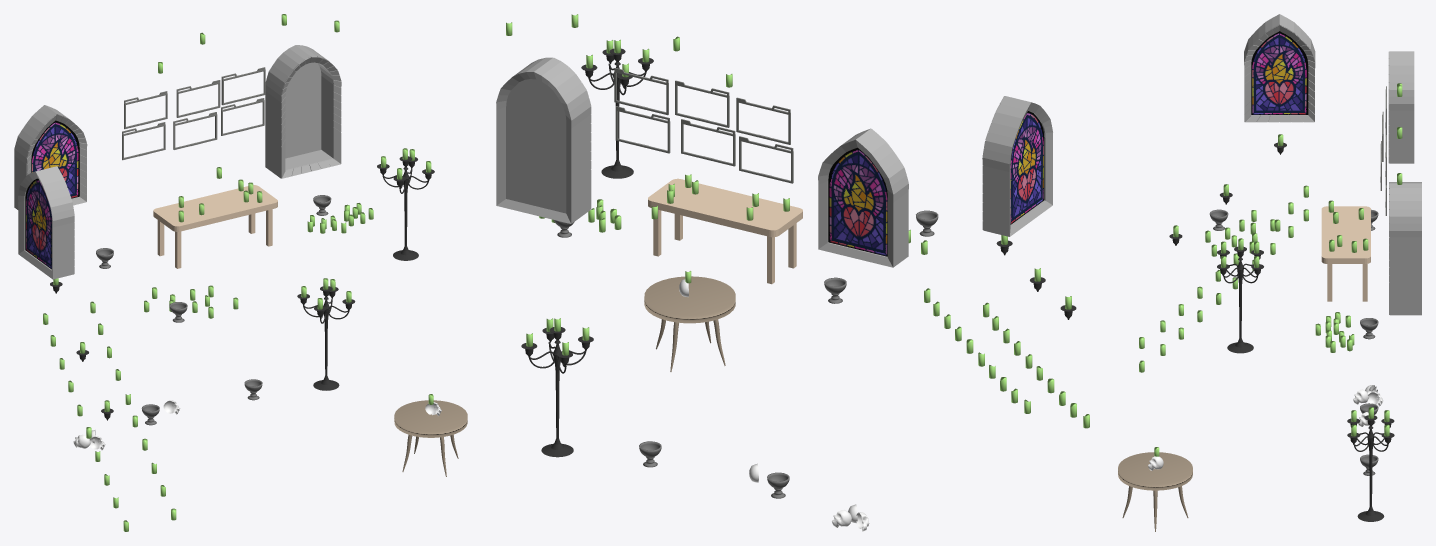
File: things2.glb
3 renders of one model, left to right at view 1: azimuth 30°, elevation 25°; view 2: azimuth 150°, elevation 25°; view 3: azimuth 270°, elevation 25°, orthographic. The views are drawn at different scales.
Parts seen in each view (by area): view 1: WindowRock.003, WindowRock.001, DesktopBase, WindowRock.002, WindowCrystal01.002, TableBase, WindowCrystal01.003, CandelabraBase.001, CandelabraBase; view 2: WindowRock.003, WindowRock.001, WindowCrystal01.004, WindowRock.002, DesktopBase, TableBase, WindowCrystal01.003, CandelabraBase; view 3: WindowRock.003, WindowCrystal01.001, WindowRock.002, WindowRock.001, DesktopBase, TableBase, CandelabraBase, CandelabraBase.001.
Boxes of the visible parts, <box> form: WindowRock.003: <box>265,45,341,178</box>; WindowRock.001: <box>18,166,74,279</box>; DesktopBase: <box>153,185,277,231</box>; WindowRock.002: <box>14,105,87,209</box>; WindowCrystal01.002: <box>31,120,79,198</box>; TableBase: <box>394,400,467,437</box>; WindowCrystal01.003: <box>25,178,51,269</box>; CandelabraBase.001: <box>393,167,418,260</box>; CandelabraBase: <box>313,297,339,390</box>; WindowRock.003: <box>496,57,591,223</box>; WindowRock.001: <box>982,96,1052,236</box>; WindowCrystal01.004: <box>828,147,887,256</box>; WindowRock.002: <box>818,128,908,267</box>; DesktopBase: <box>648,178,802,237</box>; TableBase: <box>644,276,735,323</box>; WindowCrystal01.003: <box>1010,111,1044,224</box>; CandelabraBase: <box>541,340,573,457</box>; WindowRock.003: <box>1389,182,1421,315</box>; WindowCrystal01.001: <box>1251,31,1308,114</box>; WindowRock.002: <box>1388,51,1414,163</box>; WindowRock.001: <box>1244,14,1315,122</box>; DesktopBase: <box>1321,206,1370,263</box>; TableBase: <box>1118,452,1192,490</box>; CandelabraBase: <box>1357,426,1384,521</box>; CandelabraBase.001: <box>1227,257,1253,353</box>.
Bounding box in the file's own units: 17.72 × 16.95 × 12.32.
Materials: 9 (1 with a texture image).
